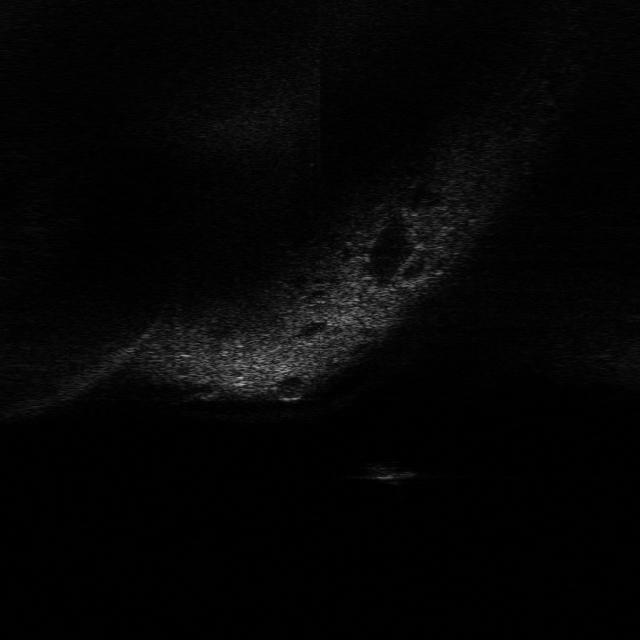cube: (358, 460, 422, 484)
